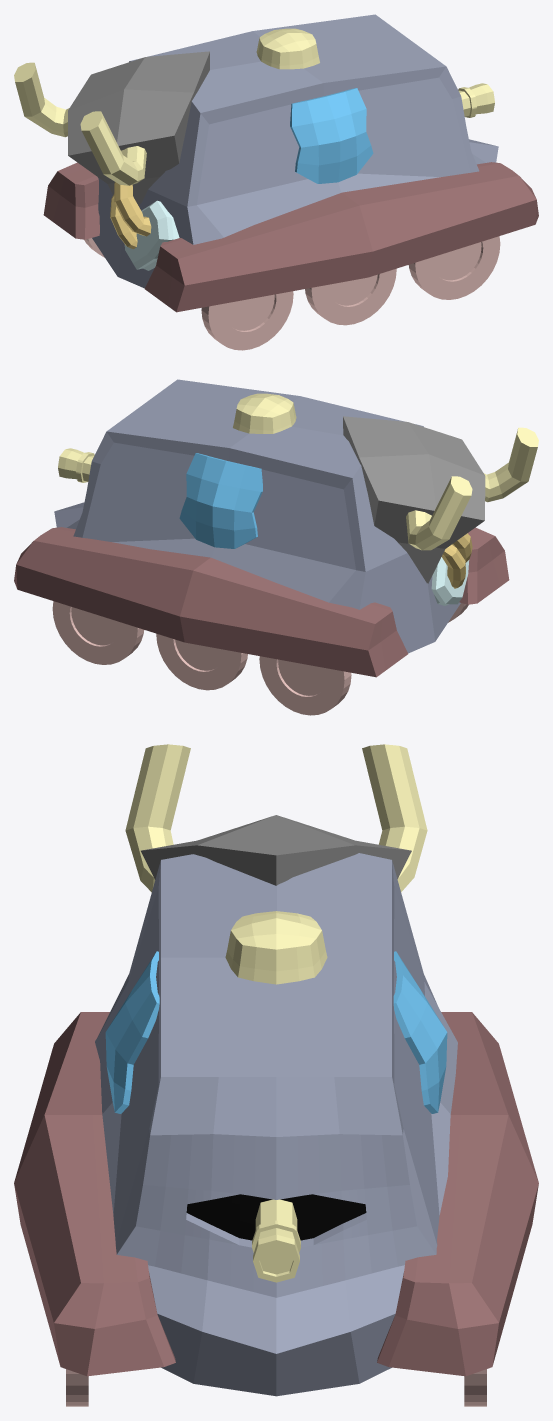
File: Tank_1.fbx
The picture shows the model from 3 angles, top to bottom: view 1: azimuth 30°, elevation 25°; view 2: azimuth 150°, elevation 25°; view 3: azimuth 270°, elevation 25°; orthographic projection. The views are drawn at different scales.
Parts seen in each view (by area): view 1: Main Body, Right, Engine Box, Cube.013, Cylinder.002, Cylinder.004, Left, Cylinder.003, Cube.005, Cube.008, Cube.006, Cube.016 (+3 smaller); view 2: Main Body, Left, Engine Box, Cube.012, Cylinder.005, Cylinder.007, Cylinder.006, Cube.006, Right, Cube.008, Cube.005, Cube.016 (+2 smaller); view 3: Main Body, Right, Left, Engine Box, Cube.008, Cube.006, Cube.005, Cube.012, Cube.013, Cube.007, Cylinder.004, Cylinder.007.
Part boxes in pixels (x1,y1,x2,y2): Main Body: (92, 14, 498, 288); Right: (144, 162, 538, 312); Engine Box: (68, 51, 209, 205); Cube.013: (290, 88, 373, 183); Cylinder.002: (201, 291, 293, 350); Cylinder.004: (408, 236, 500, 299); Left: (43, 162, 99, 239); Cylinder.003: (305, 268, 396, 325); Cube.005: (80, 111, 146, 185); Cube.008: (256, 28, 319, 69); Cube.006: (14, 62, 69, 137); Cube.016: (124, 200, 179, 270); Main Body: (54, 379, 460, 653); Left: (14, 527, 408, 677); Engine Box: (343, 416, 485, 583); Cube.012: (179, 453, 262, 548); Cylinder.005: (259, 656, 351, 715); Cylinder.007: (52, 601, 144, 664); Cylinder.006: (156, 633, 247, 690); Cube.006: (406, 476, 472, 550); Right: (459, 527, 509, 604); Cube.008: (233, 393, 296, 433); Cube.005: (484, 427, 538, 502); Cube.016: (431, 557, 469, 605); Main Body: (95, 853, 457, 1396); Right: (14, 1012, 175, 1376); Left: (377, 1012, 538, 1376); Engine Box: (141, 815, 411, 885); Cube.008: (225, 911, 327, 984); Cube.006: (362, 744, 427, 892); Cube.005: (125, 744, 190, 892); Cube.012: (393, 951, 447, 1113); Cube.013: (105, 951, 159, 1113); Cube.007: (252, 1199, 300, 1282); Cylinder.004: (66, 1369, 88, 1406); Cylinder.007: (464, 1369, 486, 1406).
Size of the model in its own units: 275 by 529 by 328.
